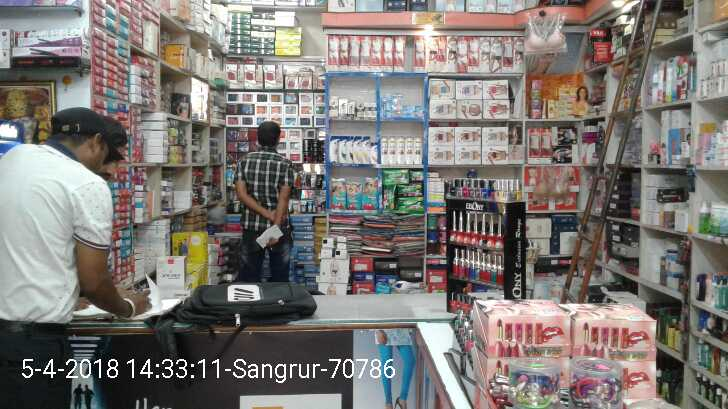venus: (391, 95, 405, 119), (381, 95, 391, 119), (408, 105, 424, 117)
